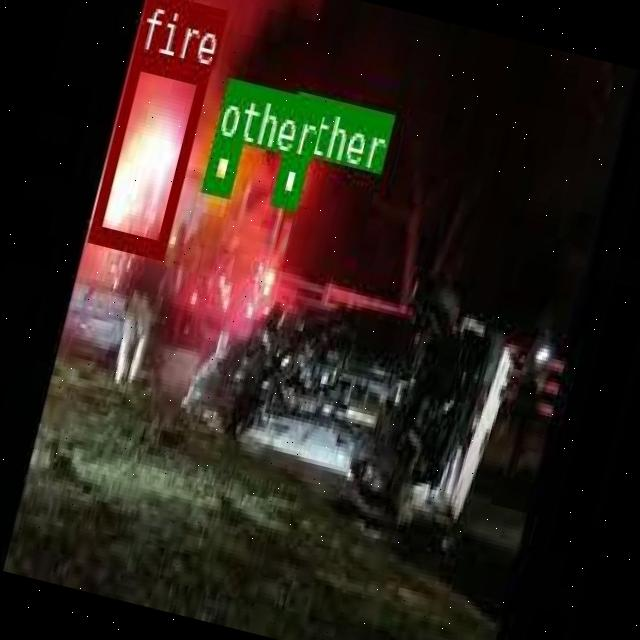fire: (87, 47, 208, 257)
